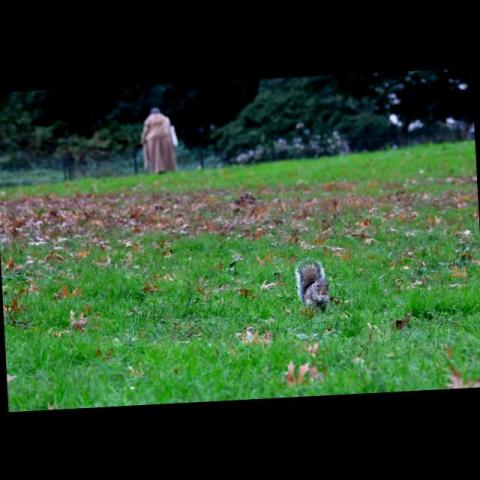small_animal: (292, 258, 332, 312)
